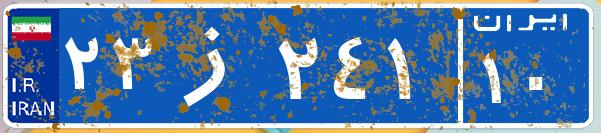0: (525, 38, 570, 115)
1: (385, 28, 445, 110), (475, 38, 525, 113)
2: (273, 28, 330, 110), (57, 26, 110, 107)
3: (110, 28, 158, 105)
4: (330, 28, 385, 110)
ز: (158, 15, 273, 115)
